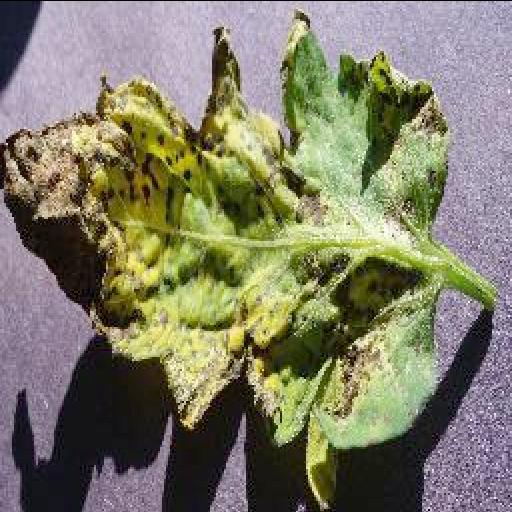disease_tomato: (2, 10, 452, 500)
